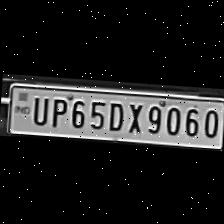0: (199, 106, 220, 138), (162, 103, 182, 135)
5: (86, 97, 106, 131)
6: (66, 97, 88, 128), (181, 104, 200, 137)
9: (142, 101, 163, 135)
D: (104, 98, 125, 132)
P: (46, 94, 68, 128)
U: (28, 92, 48, 125)
X: (124, 99, 144, 134)
